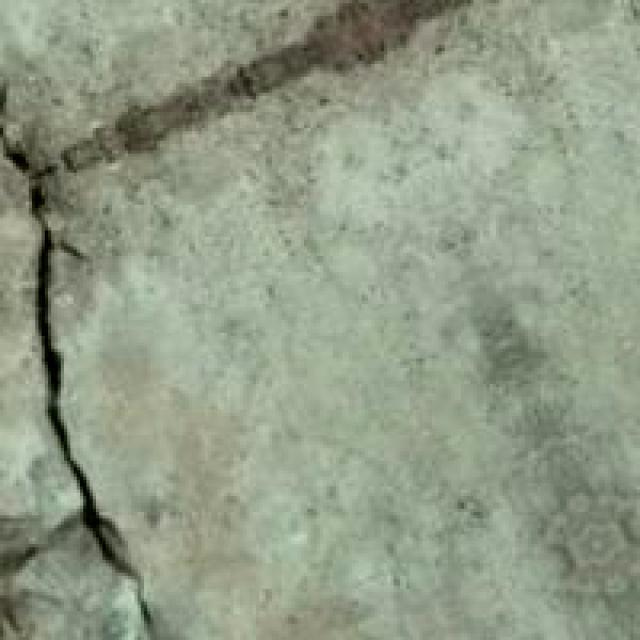crack: (0, 86, 186, 640)
